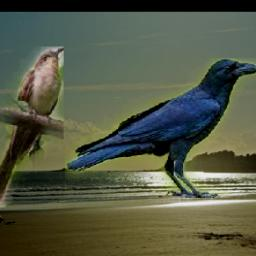Crow: (65, 58, 256, 198)
Cuckoo: (0, 47, 65, 208)
